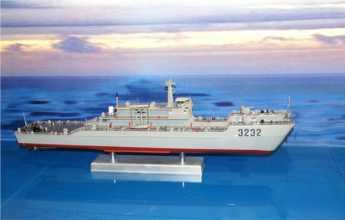warship: (13, 79, 300, 148)
